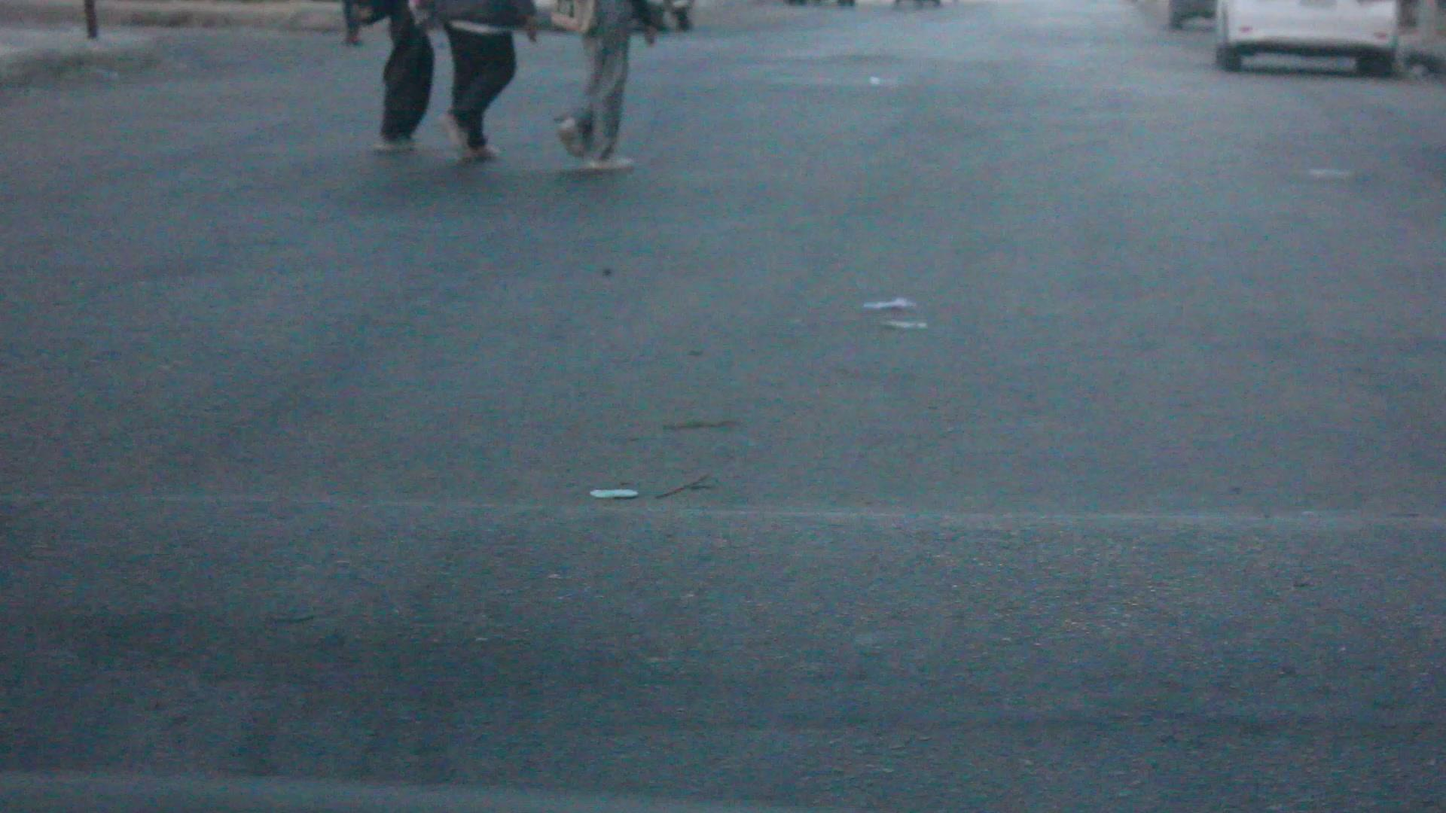Bump: (0, 501, 1445, 781)
